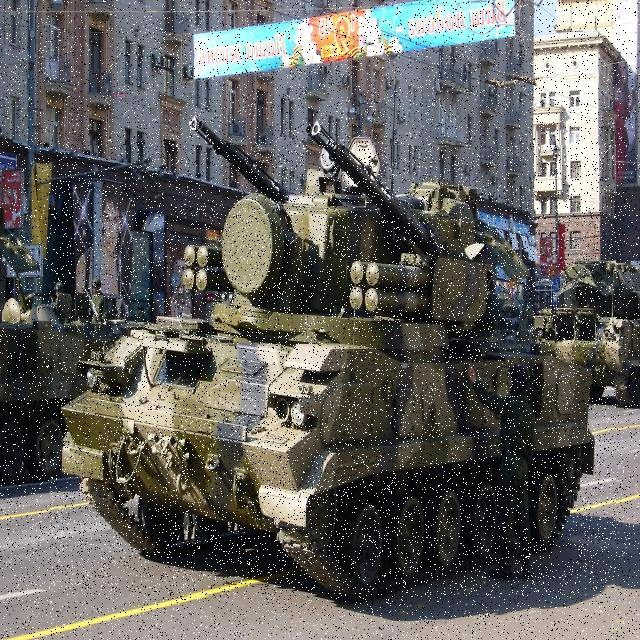MIL_MBT: (50, 146, 615, 595)
